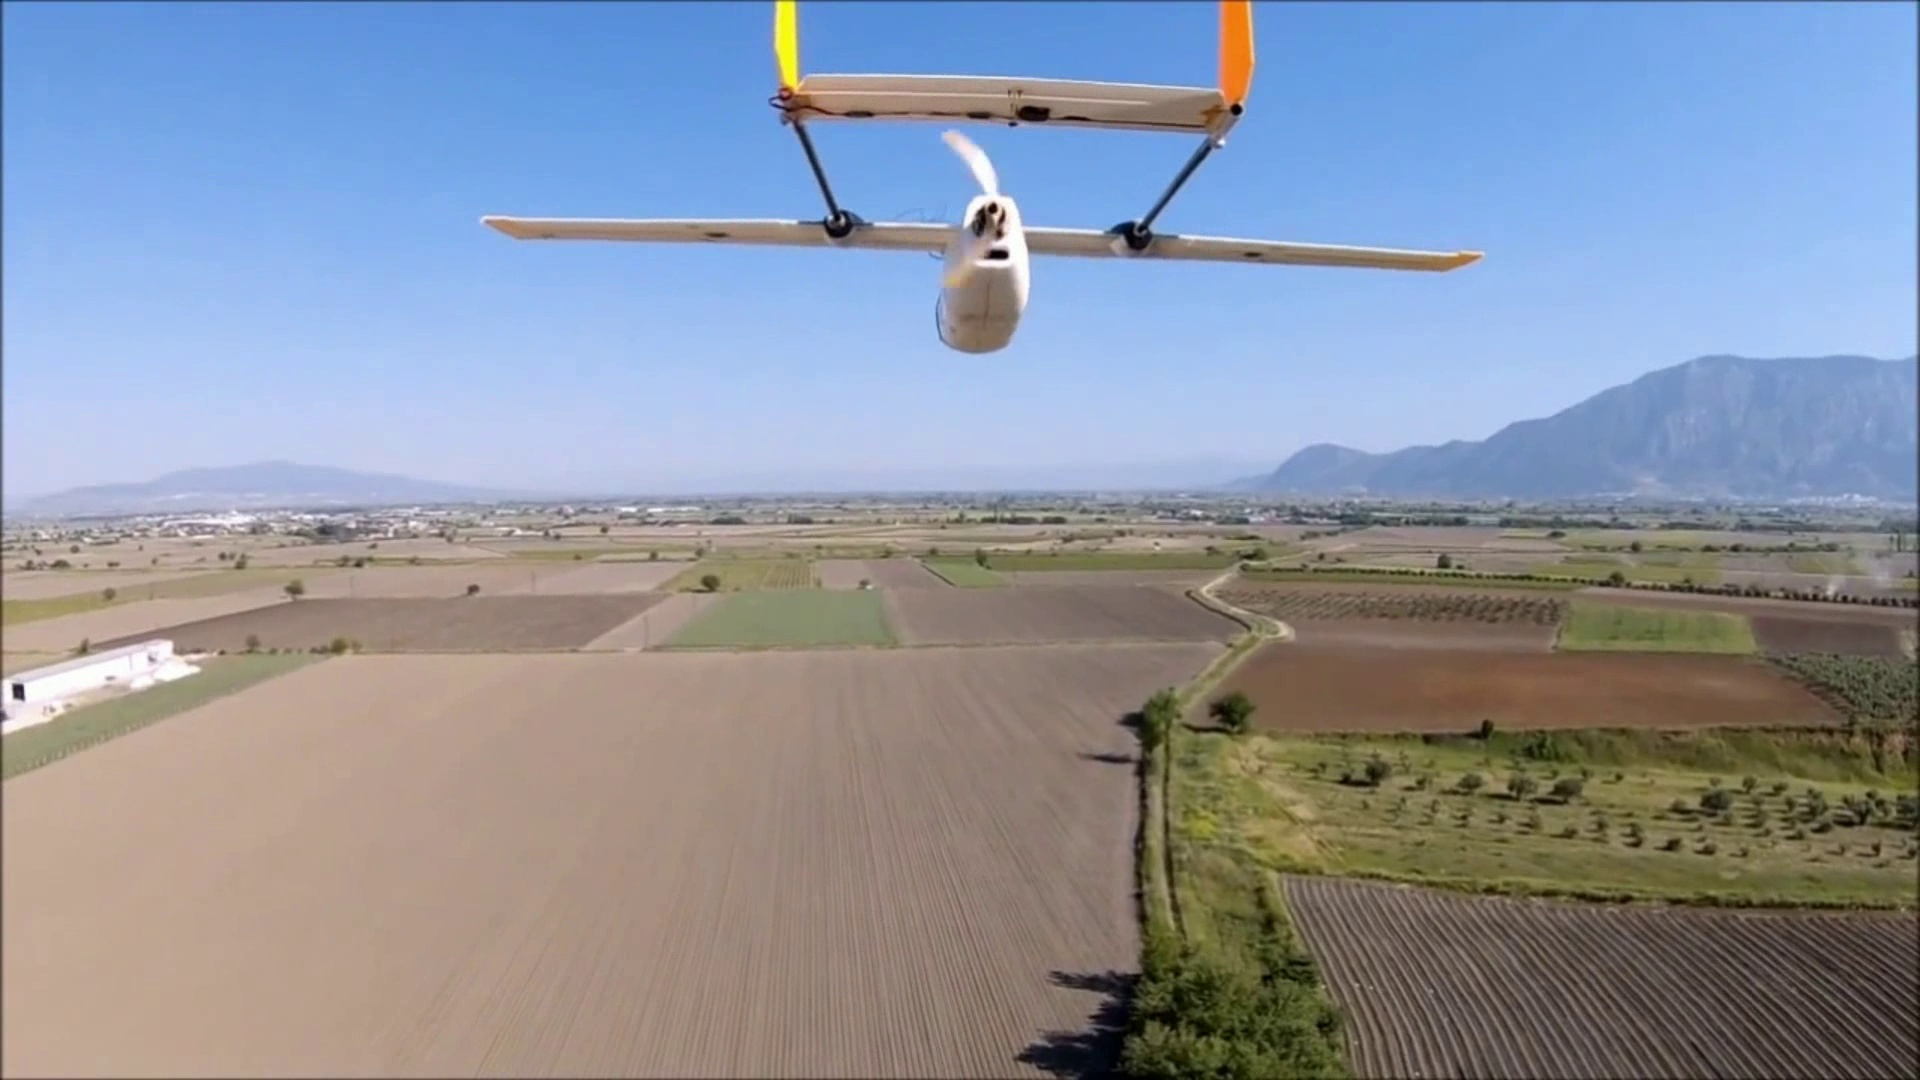airplane: (484, 5, 1481, 354)
